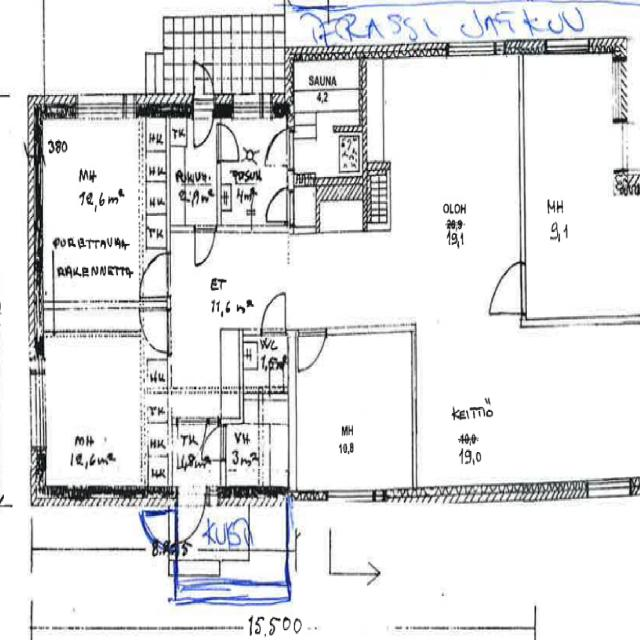door: (176, 484, 205, 552), (488, 262, 524, 312), (298, 328, 326, 380), (178, 419, 205, 471), (613, 120, 640, 168), (141, 254, 171, 296), (142, 310, 171, 352), (193, 61, 214, 118), (193, 94, 214, 150), (146, 510, 175, 550), (264, 129, 294, 166), (262, 290, 285, 335), (217, 124, 243, 160), (268, 188, 294, 220), (201, 427, 225, 459), (195, 226, 215, 264)
